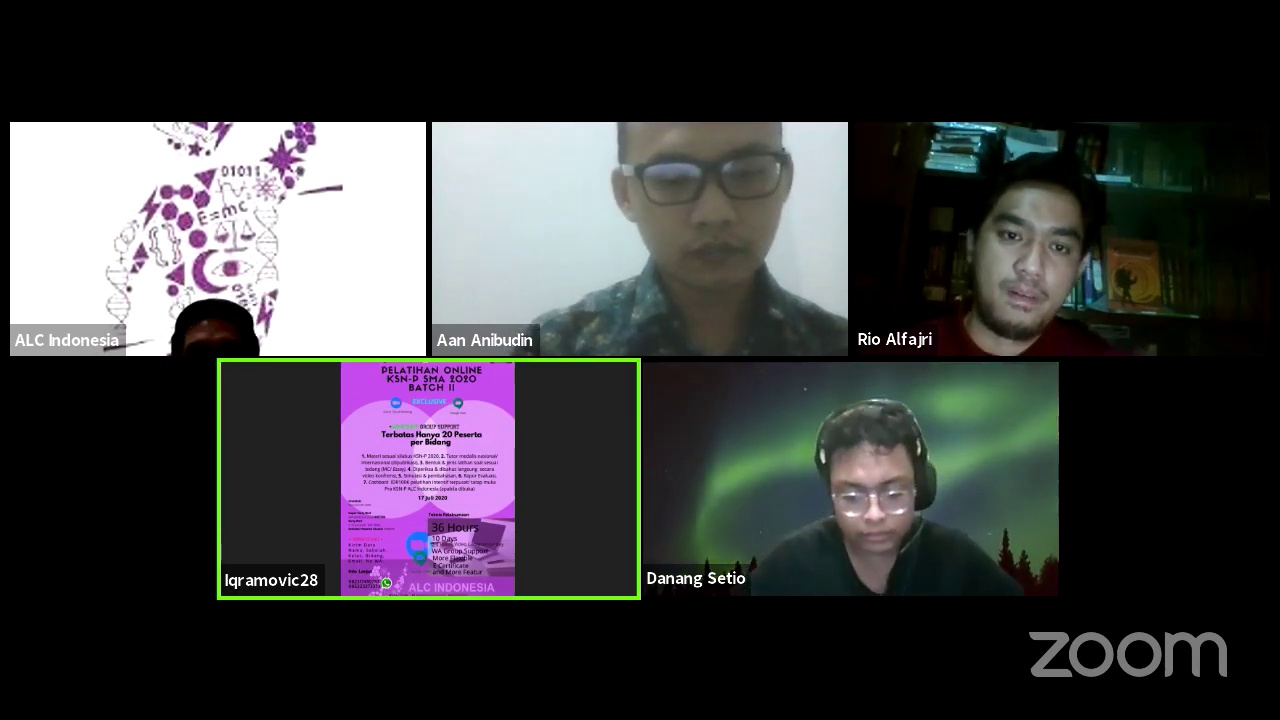Distracted: (602, 125, 792, 294), (807, 410, 944, 570)
Not Distracted: (960, 171, 1095, 325)
